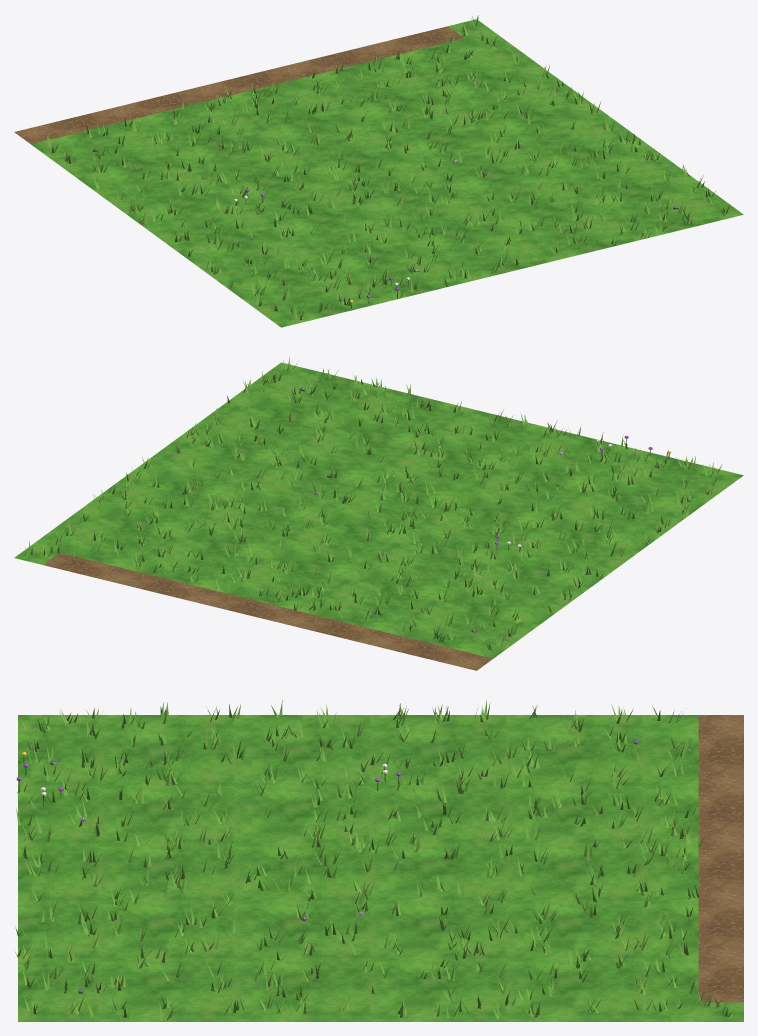
Rendered from chunk_3_8.glb.
3 renders of one model, top to bottom at view 1: azimuth 30°, elevation 25°; view 2: azimuth 150°, elevation 25°; view 3: azimuth 270°, elevation 25°, orthographic. The views are drawn at different scales.
Visible parts, largest first — view 1: chunk_3_8; view 2: chunk_3_8; view 3: chunk_3_8.
Boxes of the visible parts, left/top/right/bottom form: chunk_3_8: left=14, top=15, right=743, bottom=327; chunk_3_8: left=14, top=357, right=743, bottom=670; chunk_3_8: left=14, top=699, right=743, bottom=1021.
Size of the model in its own units: 16.12 by 0.4592 by 16.09.
Materials: 10 (6 with a texture image).
